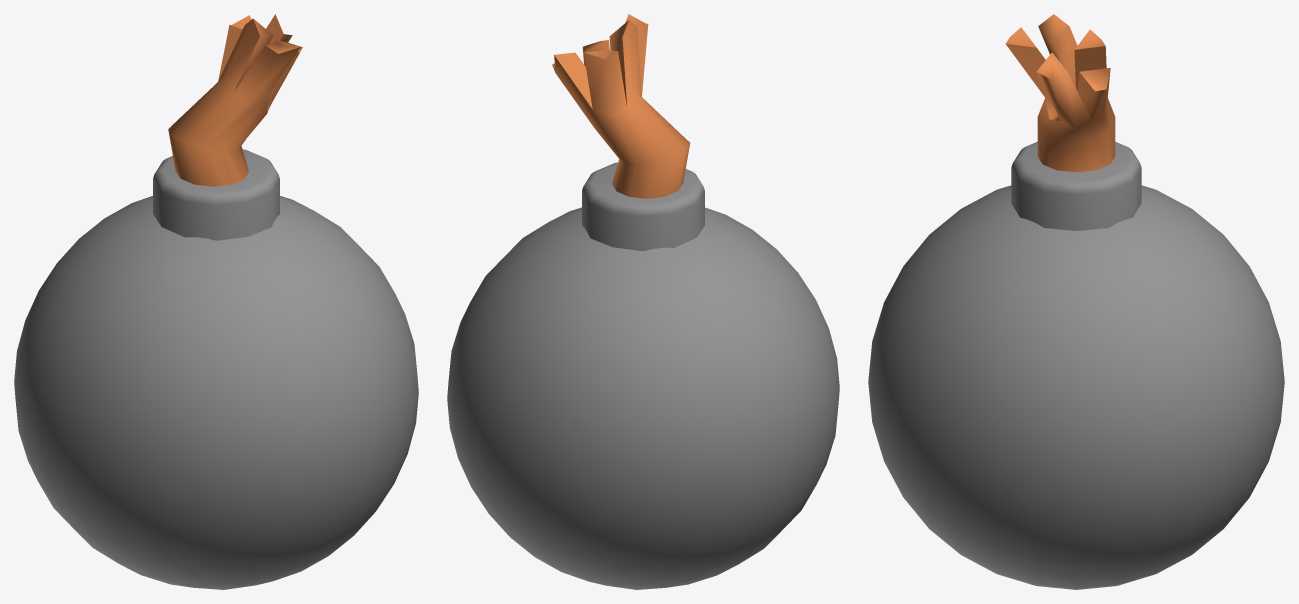
Rendered from Bomb.fbx.
3 renders of one model, left to right at view 1: azimuth 30°, elevation 25°; view 2: azimuth 150°, elevation 25°; view 3: azimuth 270°, elevation 25°, orthographic. The views are drawn at different scales.
Parts seen in each view (by area): view 1: Bomb, BombFuse; view 2: Bomb, BombFuse; view 3: Bomb, BombFuse.
Part boxes in pixels (x1,y1,x2,y2): Bomb: (14,149,418,589); BombFuse: (168,14,302,186); Bomb: (447,162,839,589); BombFuse: (552,14,690,198); Bomb: (868,142,1284,589); BombFuse: (1005,14,1115,172).
Bounding box in the file's own units: 64.96 × 97.99 × 64.96.
